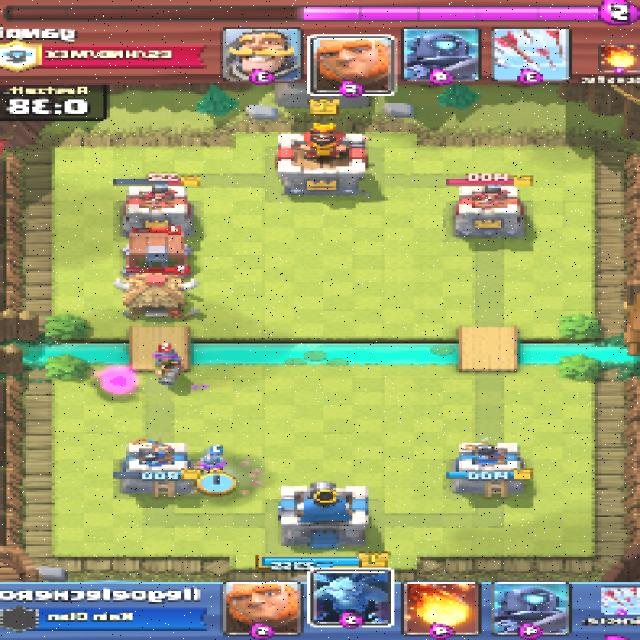Enemy-GoblinHut: (115, 276, 202, 320)
Enemy-Musketeer: (150, 348, 184, 386)
Player-GoblinCage: (122, 231, 192, 272)
Player-Musketeer: (194, 450, 227, 480)
